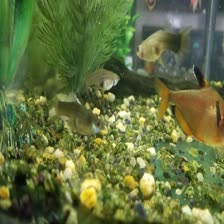Guppy: (130, 18, 194, 62), (43, 97, 104, 132), (74, 60, 129, 94)
Transparente: (147, 73, 223, 152)
